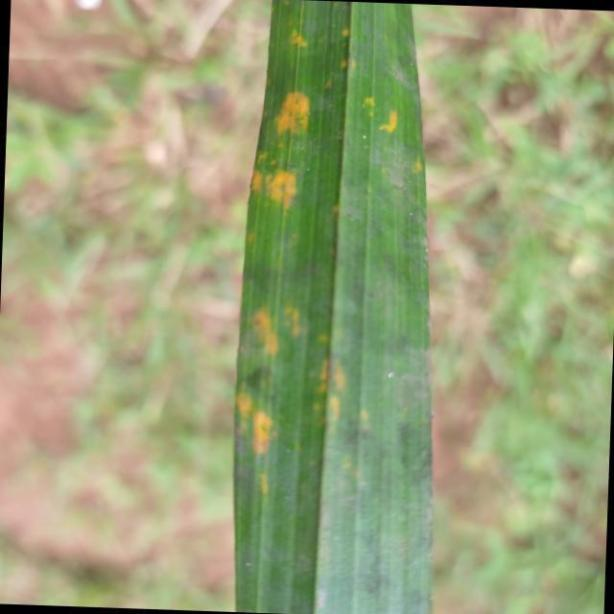Kalium: (229, 0, 433, 614)
